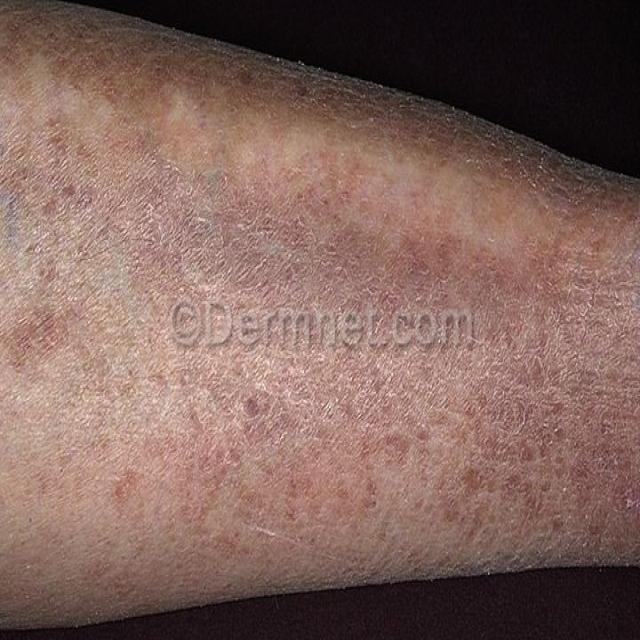Eczema: (0, 129, 633, 531)
